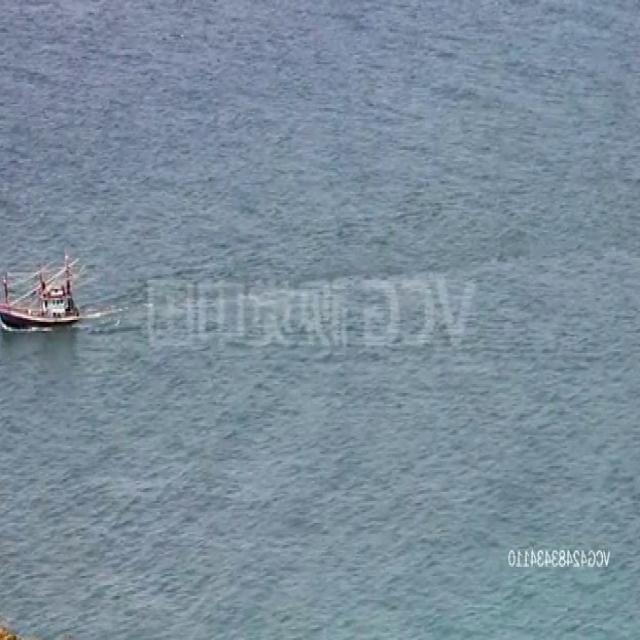fishing boat: (0, 252, 84, 330)
